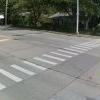Crosswalk: (2, 41, 90, 78)
